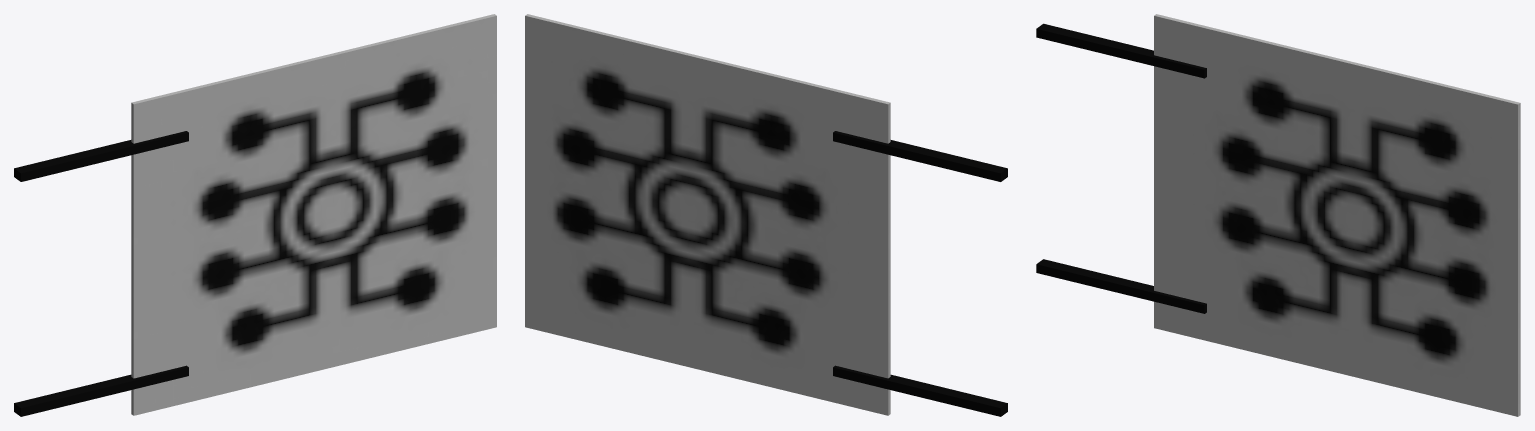
The model's file is Poster4.glb.
The picture shows the model from 3 angles, left to right: view 1: azimuth 30°, elevation 25°; view 2: azimuth 150°, elevation 25°; view 3: azimuth 330°, elevation 25°; orthographic projection.
Parts seen in each view (by area): view 1: p4; view 2: p4; view 3: p4.
Boxes of the visible parts, left/top/right/bottom form: p4: left=14, top=14, right=496, bottom=416; p4: left=525, top=14, right=1007, bottom=416; p4: left=1036, top=14, right=1520, bottom=416.
Bounding box in the file's own units: 1 × 0.6247 × 0.0254.
1 material, 1 textured.
